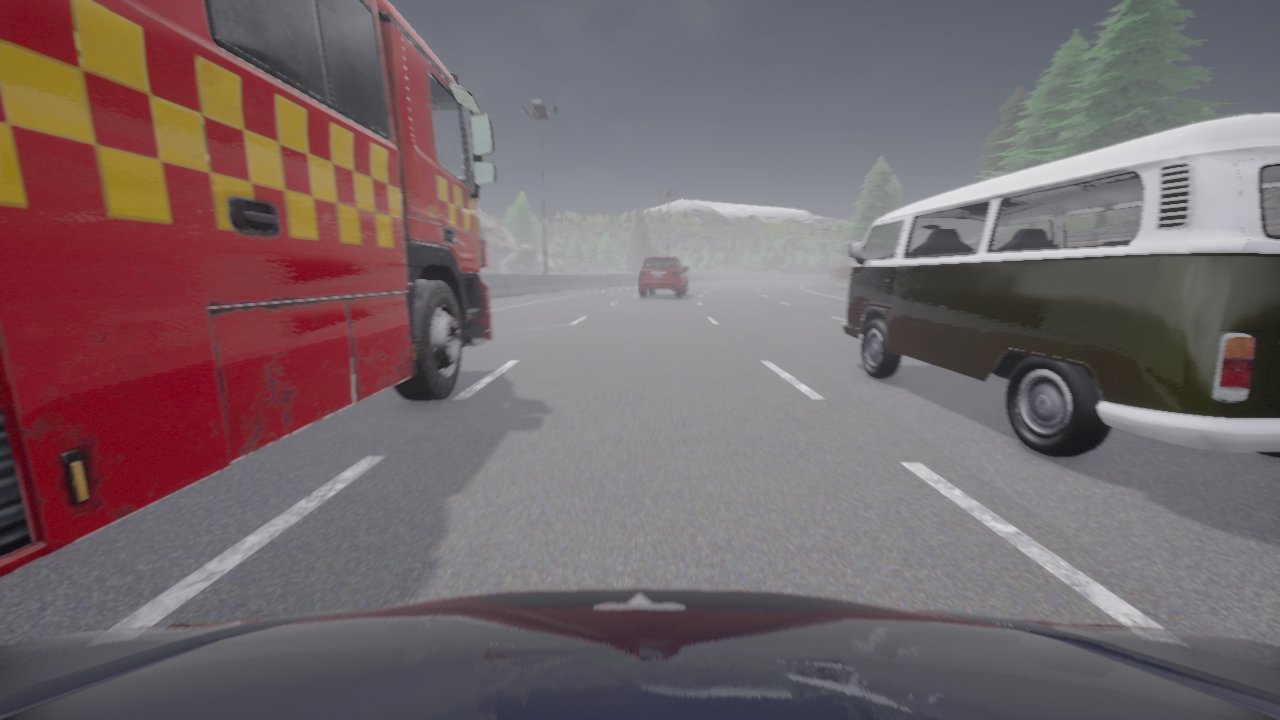cyclist: (0, 588, 1279, 719), (843, 113, 1279, 457), (639, 257, 687, 297)
